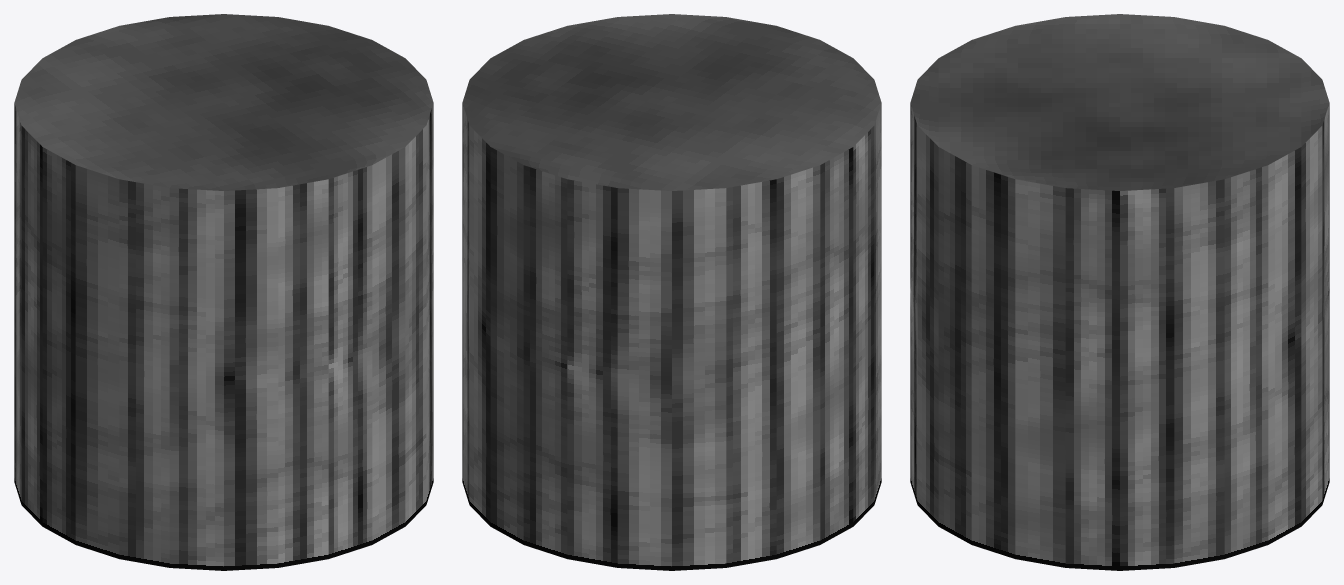
The model's file is castle_interior_pillar.glb.
The picture shows the model from 3 angles, left to right: view 1: azimuth 30°, elevation 25°; view 2: azimuth 150°, elevation 25°; view 3: azimuth 270°, elevation 25°; orthographic projection.
Visible parts, largest first — view 1: pillar; view 2: pillar; view 3: pillar.
Part boxes in pixels (bbox=[...]): pillar: bbox=[14, 14, 433, 570]; pillar: bbox=[462, 14, 881, 570]; pillar: bbox=[910, 14, 1329, 570].
Size of the model in its own units: 2 by 2 by 2.
1 material, 1 textured.
